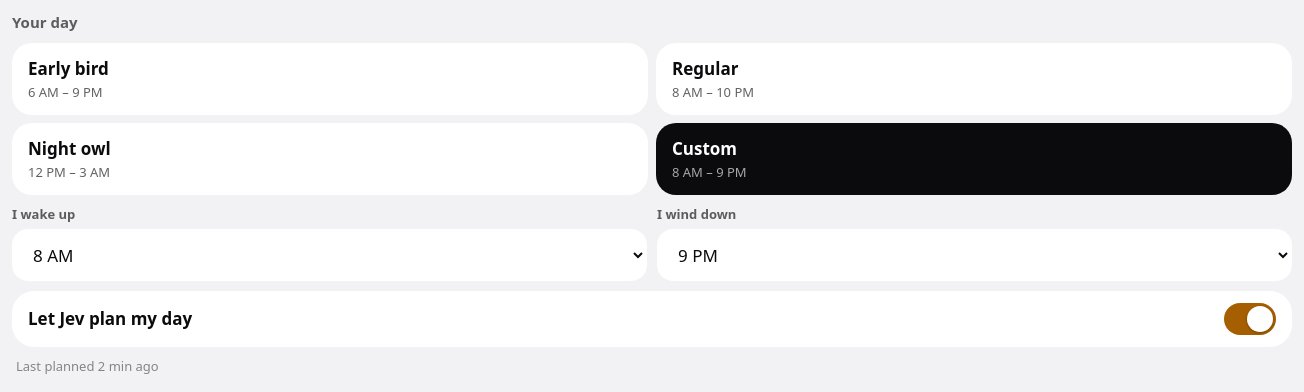
Test case: Your day › saves a preset day right away, including one that runs past midnight
Expected: the text "Last planned 2 min ago" is shown, [16, 357, 159, 375]
Click the button "Night owl 12 PM – 3 AM": (69, 148) [12, 123, 648, 195]
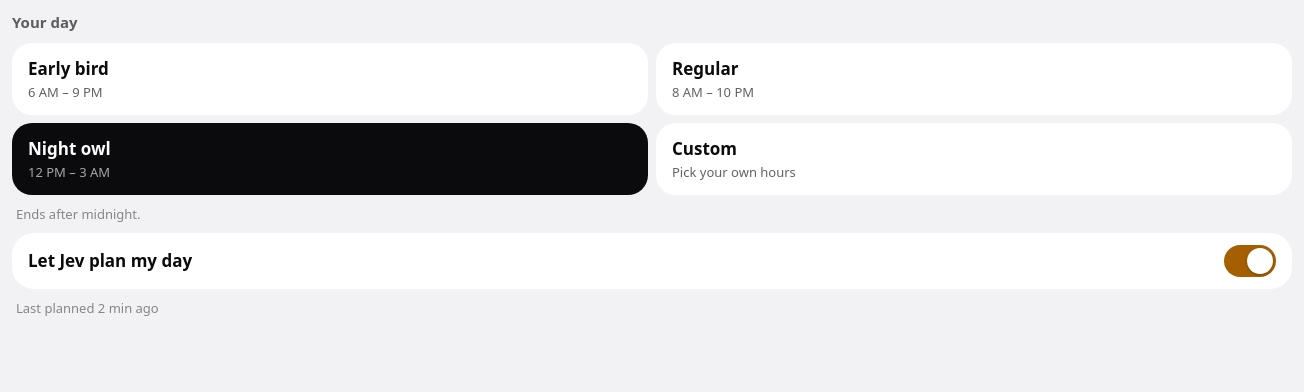
Expected: the text "Ends after midnight." is shown, [16, 205, 140, 223]
